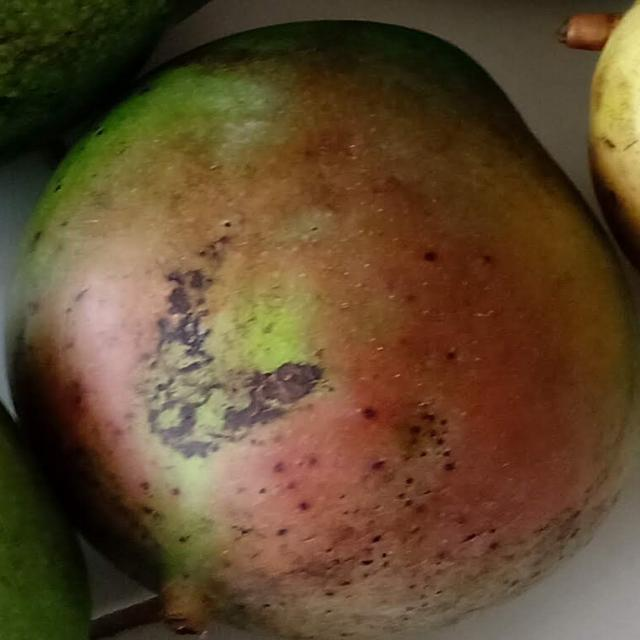Mango: (6, 26, 640, 626)
